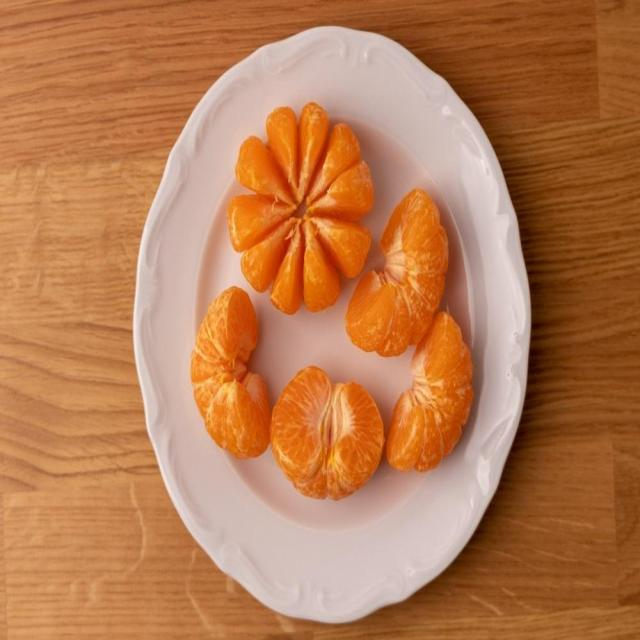10_tangerine: (228, 94, 378, 320), (340, 187, 450, 361), (386, 301, 480, 474), (272, 364, 384, 498), (189, 282, 271, 460)
